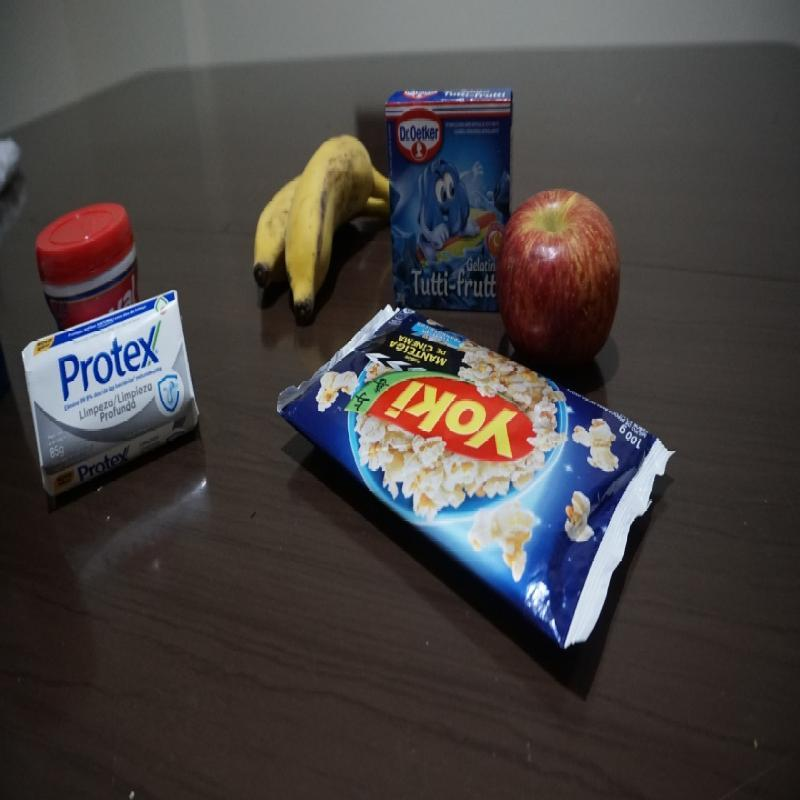Apple: (496, 186, 622, 375)
Banana: (250, 133, 389, 325)
Gelatine: (383, 88, 514, 320)
Popcorn: (277, 305, 679, 663)
Soap: (20, 288, 200, 500)
Yeast: (35, 202, 147, 326)
